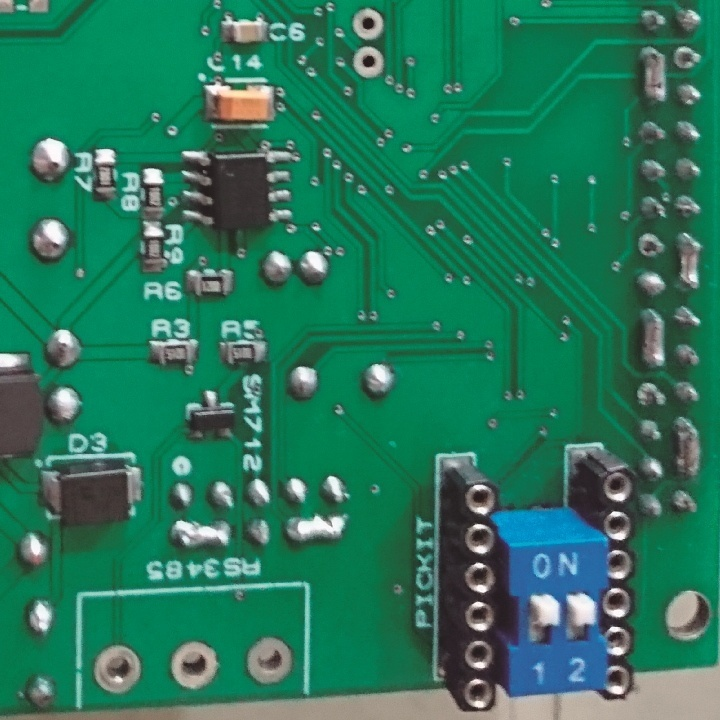F: (241, 632, 297, 688), (93, 644, 144, 698), (168, 641, 220, 692), (350, 44, 387, 80), (350, 7, 387, 41), (637, 379, 668, 416), (674, 42, 704, 72), (638, 230, 663, 261)
P: (284, 512, 347, 549), (167, 517, 231, 552), (637, 42, 669, 109), (673, 413, 704, 479), (639, 304, 667, 370), (677, 229, 700, 295)
